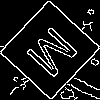M: (24, 24, 87, 87)
